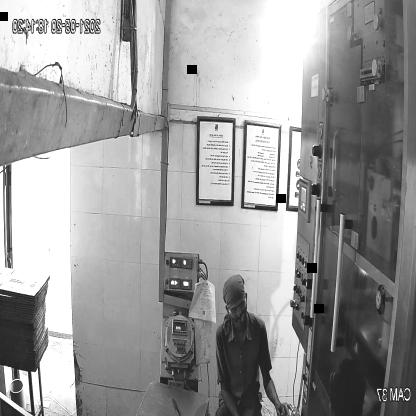goggles: (226, 295, 249, 320)
